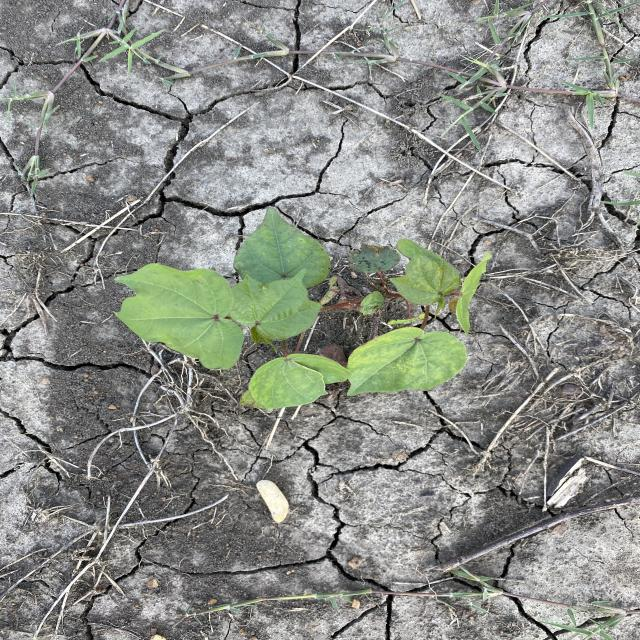MorningGlory: (111, 205, 496, 414)
